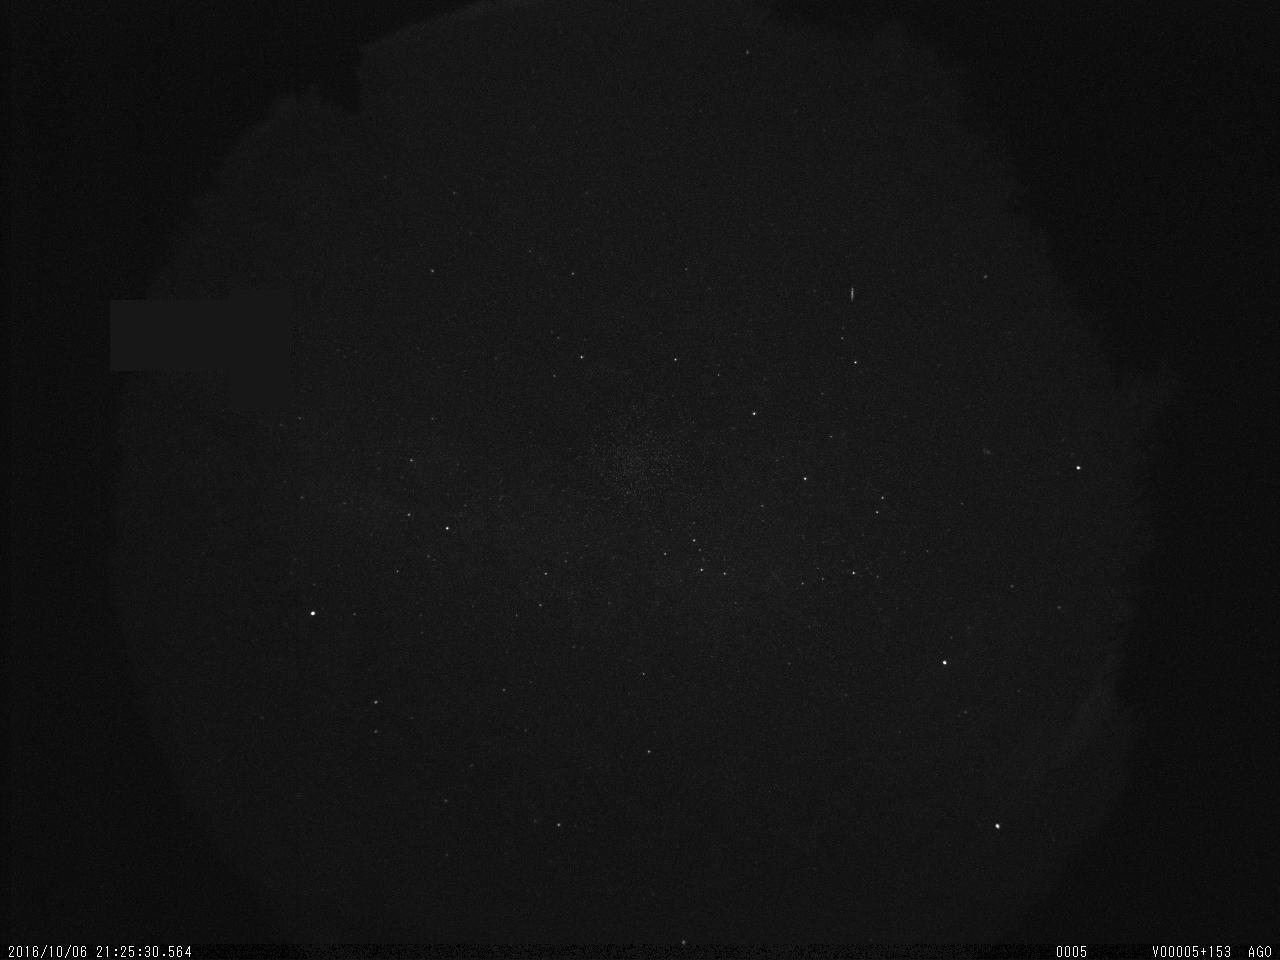meteor: (825, 267, 875, 319)
